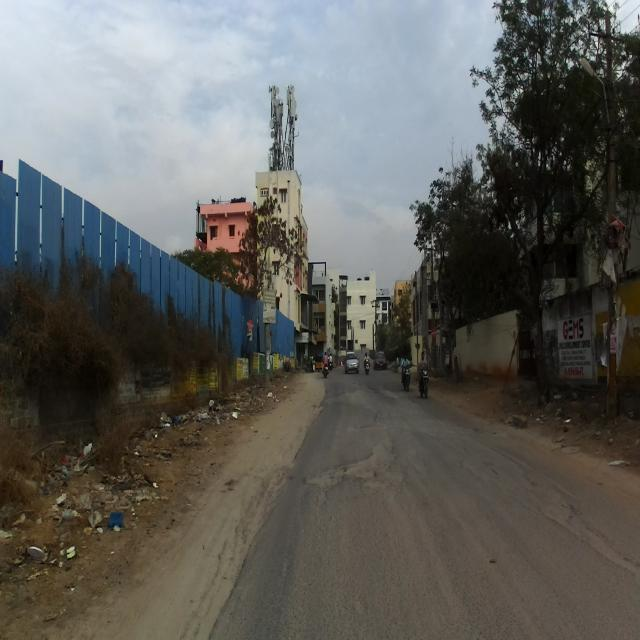electric pole ahead at: (594, 8, 632, 430)
